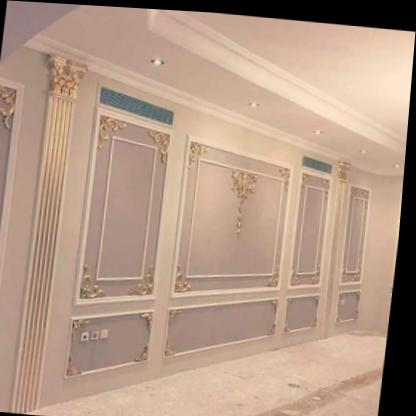Futec frame: (174, 129, 300, 299), (76, 104, 179, 309), (68, 292, 288, 386), (293, 165, 377, 289)
